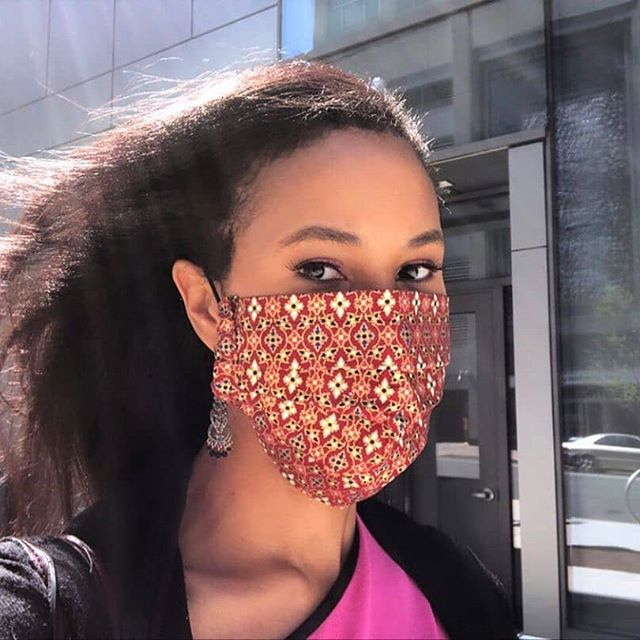homemade: (212, 286, 459, 496)
